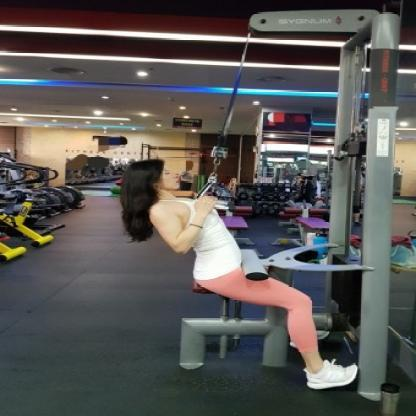Lat Pull Down: (123, 0, 416, 416)
